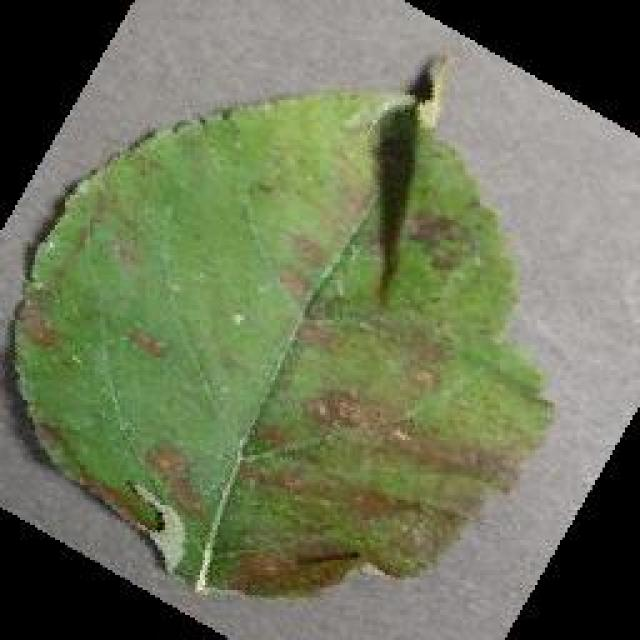apple rust disease: (7, 55, 555, 600)
